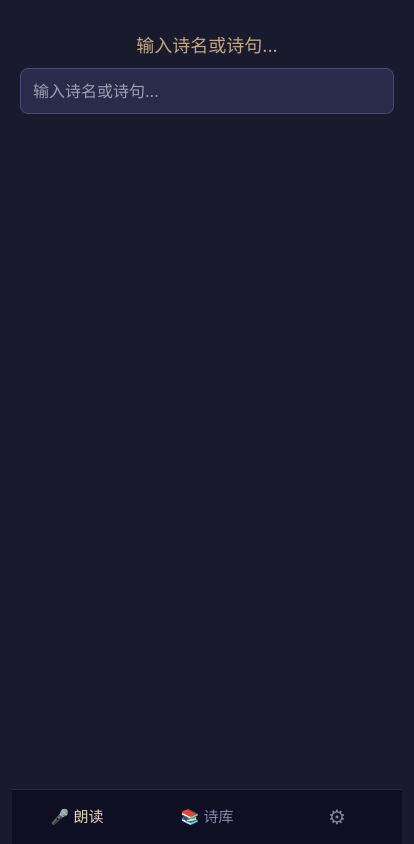
App › clicking 诗库 tab switches to library tab showing empty library message
What coordinates should you click on to do the following:
click the button "📚 诗库"
I would click on:
 (207, 817)
Its box is x1=142 y1=790 x2=272 y2=843.
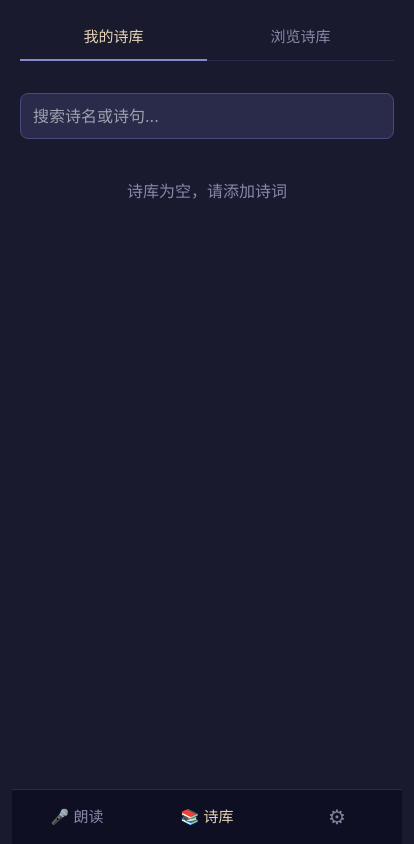
Result: the text "诗库为空，请添加诗词" is shown at x1=127 y1=180 x2=287 y2=200
